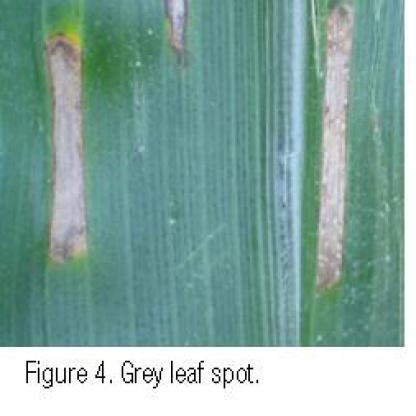corn gray leaf spot: (2, 3, 404, 345)
